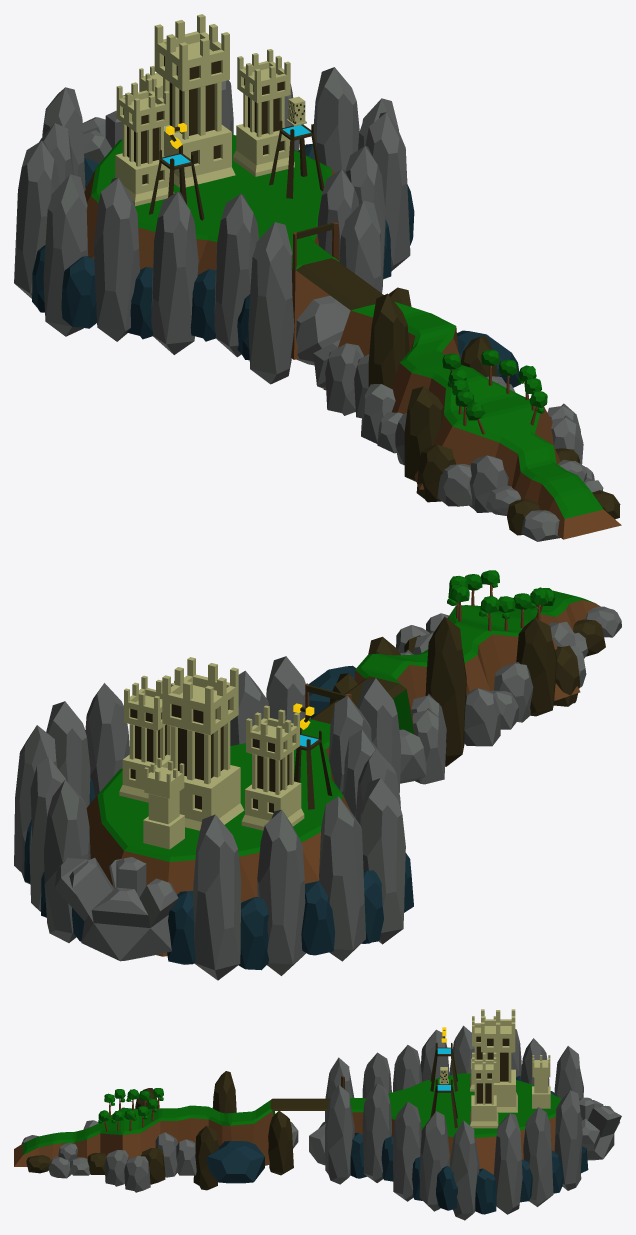
The picture shows the model from 3 angles, top to bottom: view 1: azimuth 30°, elevation 25°; view 2: azimuth 150°, elevation 25°; view 3: azimuth 270°, elevation 25°; orthographic projection. The views are drawn at different scales.
Visible parts, largest first — view 1: Plane, Plane.001, Cube, Icosphere.025, Icosphere.029, Icosphere.031, Cube.002, Cube.001, Icosphere.027, Icosphere.033, Icosphere.035, Icosphere.048 (+25 smaller); view 2: Plane.001, Cube, Plane, Icosphere.022, Icosphere.039, Icosphere.037, Icosphere.035, Cube.001, Icosphere.033, Icosphere.045, Cube.002, Icosphere.056 (+26 smaller); view 3: Plane, Plane.001, Cube, Icosphere.041, Icosphere.052, Icosphere.043, Icosphere.045, Icosphere.054, Icosphere.055, Icosphere.050, Icosphere.048, Icosphere.021 (+34 smaller).
Part boxes in pixels (bbox=[...]): Plane: bbox=[292, 258, 621, 539]; Plane.001: bbox=[84, 134, 339, 359]; Cube: bbox=[154, 14, 235, 187]; Icosphere.025: bbox=[248, 222, 294, 384]; Icosphere.029: bbox=[151, 191, 198, 354]; Icosphere.031: bbox=[93, 177, 139, 341]; Cube.002: bbox=[233, 49, 294, 176]; Cube.001: bbox=[115, 78, 174, 206]; Icosphere.027: bbox=[214, 194, 258, 357]; Icosphere.033: bbox=[43, 174, 88, 336]; Icosphere.035: bbox=[14, 140, 59, 298]; Icosphere.048: bbox=[365, 112, 410, 271]; Plane.001: bbox=[86, 683, 351, 956]; Cube: bbox=[162, 657, 244, 830]; Plane: bbox=[310, 590, 600, 734]; Icosphere.022: bbox=[54, 857, 178, 961]; Icosphere.039: bbox=[193, 814, 241, 980]; Icosphere.037: bbox=[257, 809, 306, 975]; Icosphere.035: bbox=[319, 796, 365, 961]; Cube.001: bbox=[241, 705, 304, 830]; Icosphere.033: bbox=[360, 778, 405, 944]; Icosphere.045: bbox=[44, 780, 90, 942]; Cube.002: bbox=[119, 675, 174, 802]; Icosphere.056: bbox=[425, 616, 466, 766]; Plane: bbox=[14, 1098, 329, 1177]; Plane.001: bbox=[340, 1073, 561, 1174]; Cube: bbox=[481, 1009, 517, 1112]; Icosphere.041: bbox=[493, 1113, 522, 1214]; Icosphere.052: bbox=[325, 1084, 354, 1184]; Icosphere.043: bbox=[523, 1107, 553, 1206]; Icosphere.045: bbox=[554, 1090, 582, 1190]; Icosphere.054: bbox=[362, 1083, 391, 1182]; Icosphere.055: bbox=[393, 1102, 421, 1201]; Icosphere.050: bbox=[450, 1120, 479, 1220]; Icosphere.048: bbox=[419, 1111, 449, 1211]; Icosphere.021: bbox=[207, 1141, 264, 1183].
Size of what is drawn, in the model's own units: 36.54 by 25.04 by 87.17.
